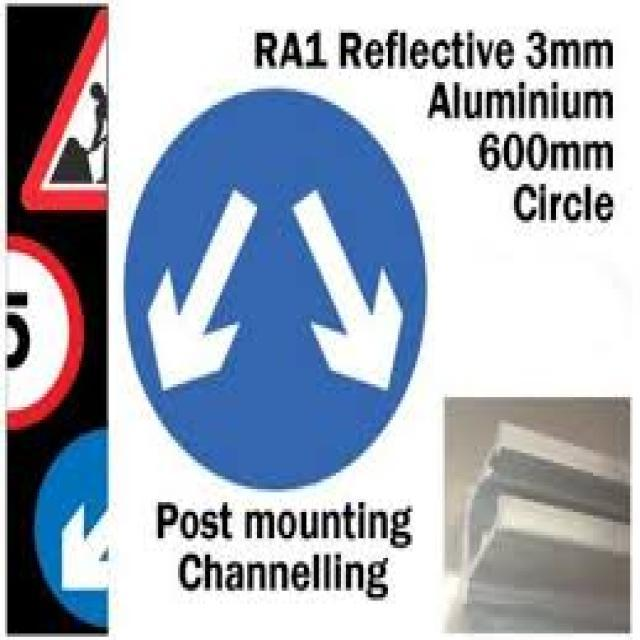pass either side: (114, 92, 444, 497)
